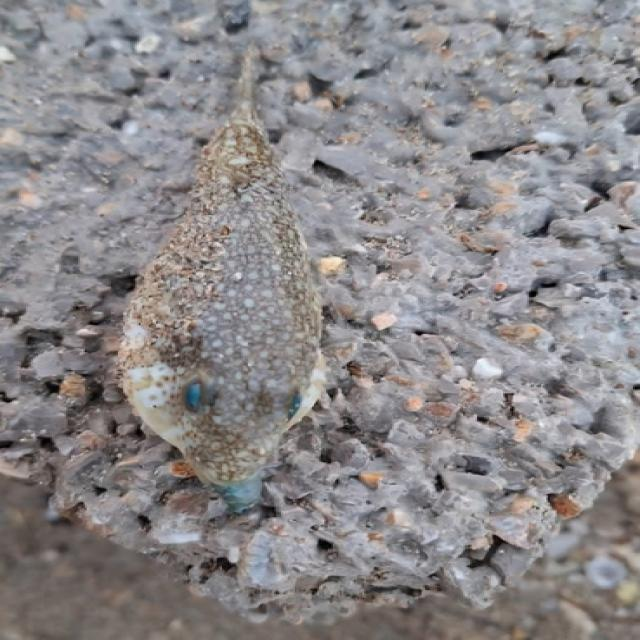Balik: (118, 52, 324, 511)
